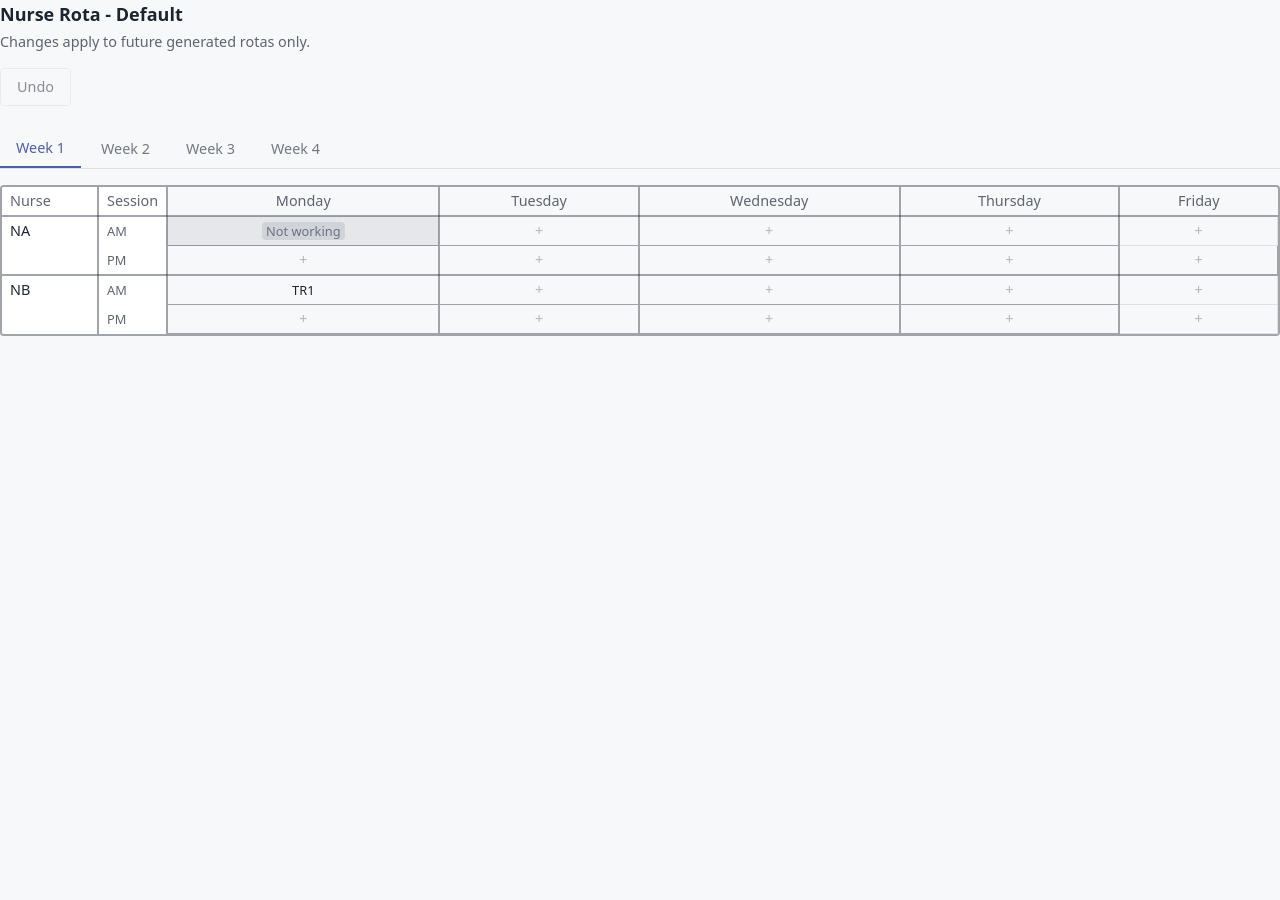
Test: NurseRotaPage: undo › replays displaced-then-target as two PATCHes, with no template in the path
Click the element showing "Not working" at (303, 231), box [262,222,344,240]
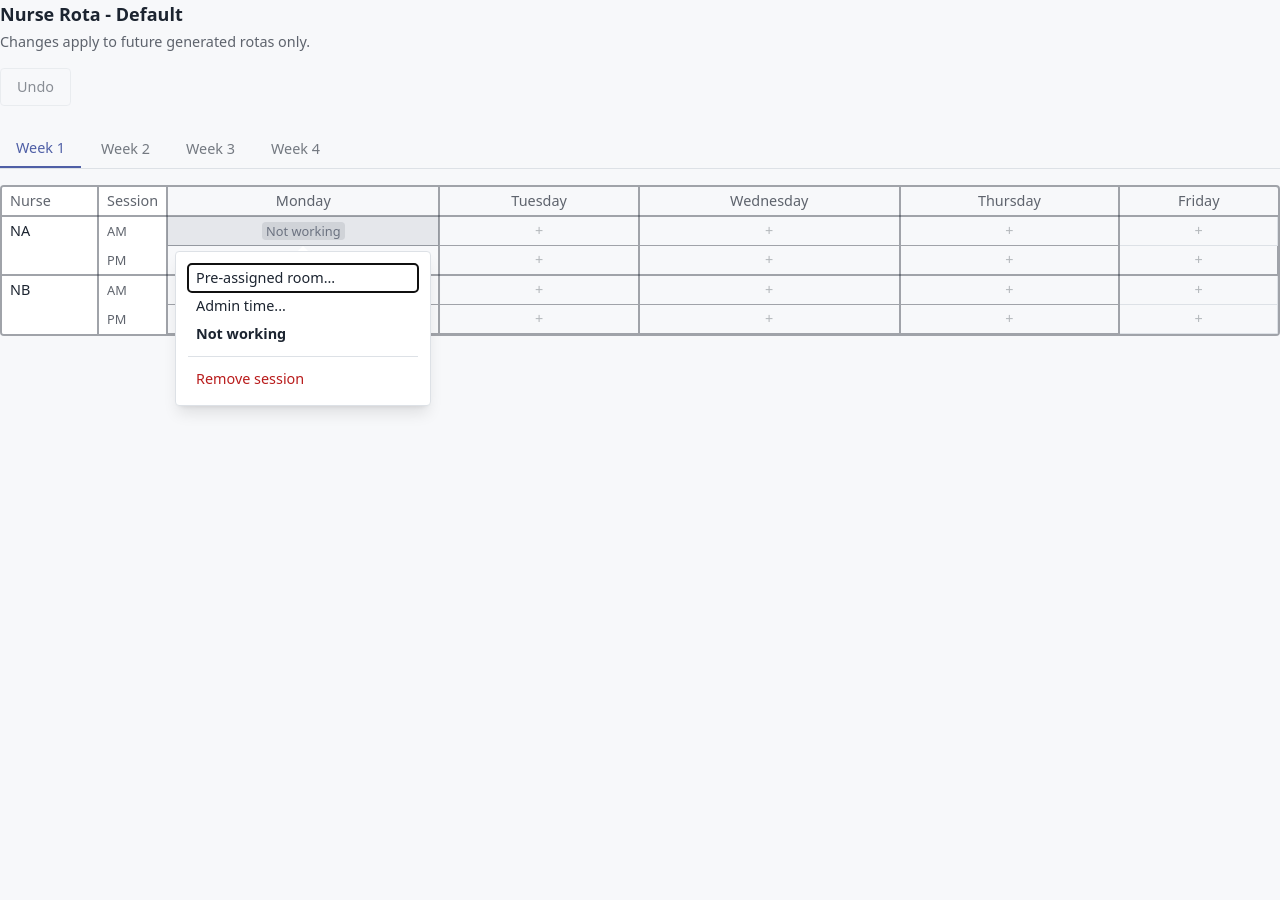
Click the button "Pre-assigned room..." at (303, 278), box [188,264,418,292]
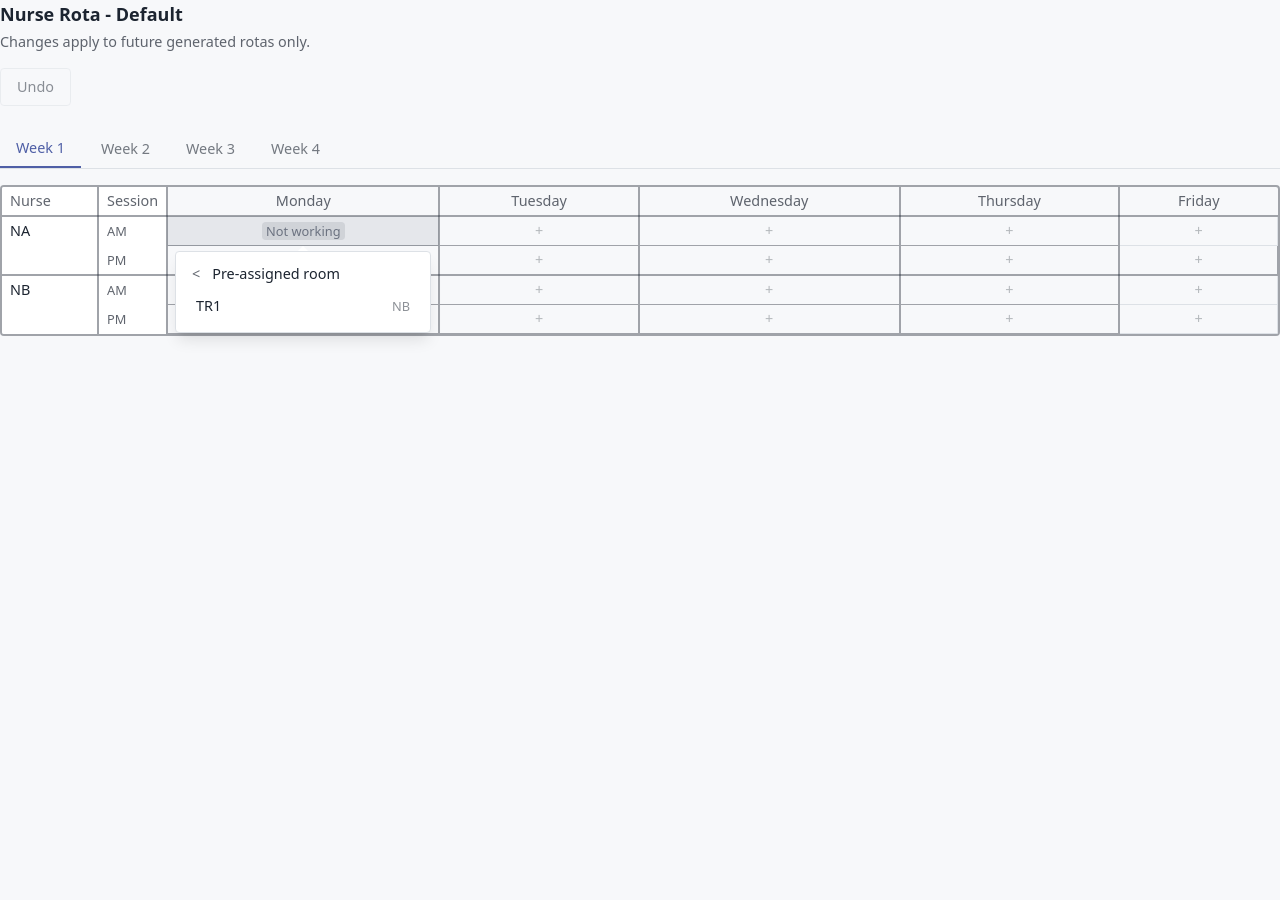
Click the button "TR1 NB" at (303, 306), box [188,292,418,320]
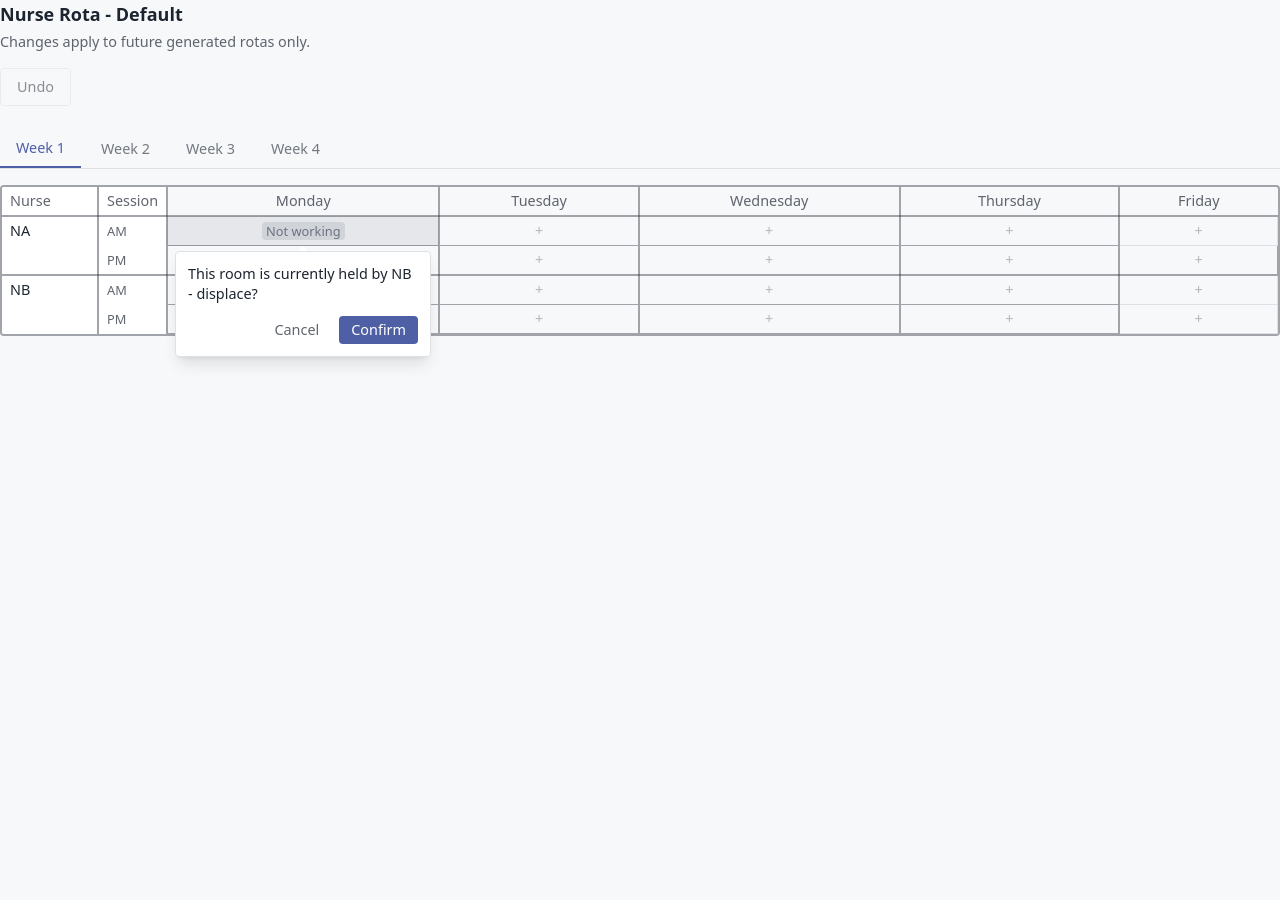
Click the button "Confirm" at (379, 330), box [339,316,418,344]
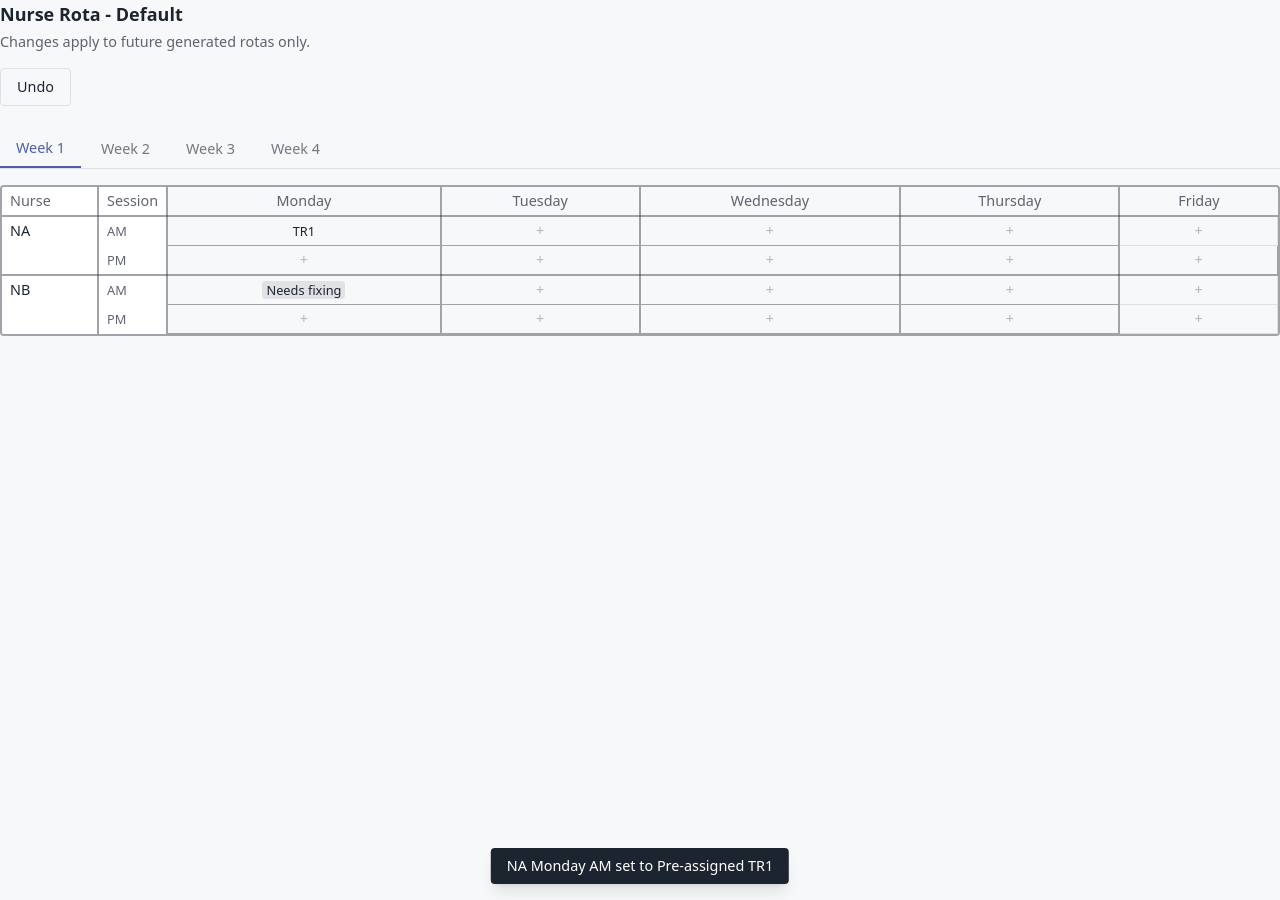
Check: the text "NA Monday AM set to Pre-assigned TR1" is shown, box [491,848,789,884]
Click the button "Undo" at (36, 87), box [0,68,71,106]
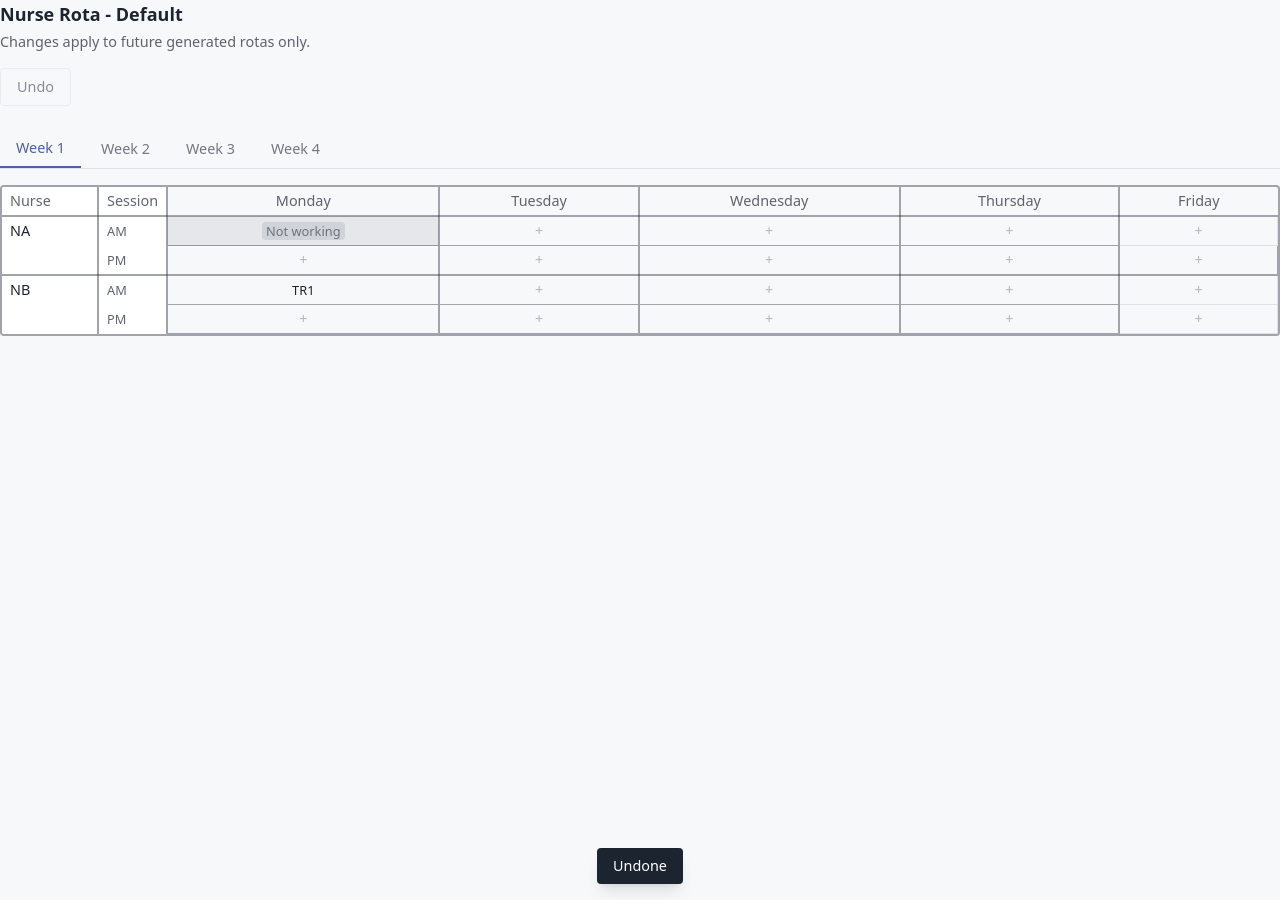
Check: the text "Undone" is shown, box [597,848,683,884]
